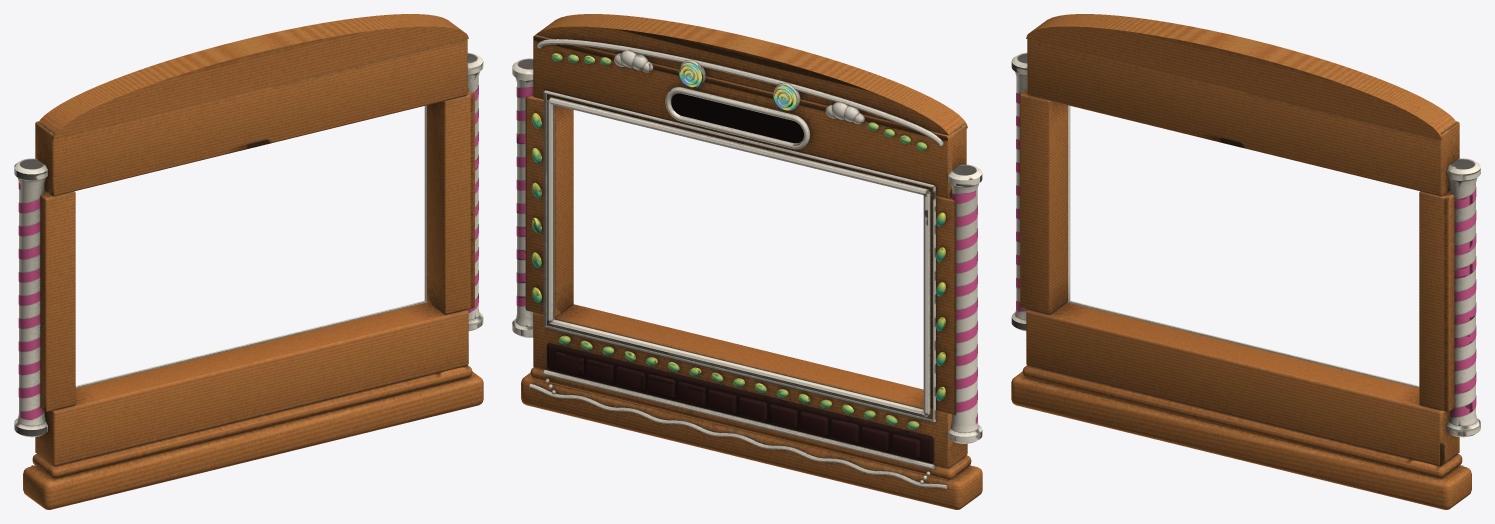
The picture shows the model from 3 angles, left to right: view 1: azimuth 30°, elevation 25°; view 2: azimuth 150°, elevation 25°; view 3: azimuth 330°, elevation 25°; orthographic projection.
Parts seen in each view (by area): view 1: Baked_gingerbread, Vanilla_icing, Raspberry_candy; view 2: Baked_gingerbread, Vanilla_icing, Dark_chocolate, Fruit_jelly, Raspberry_candy, Rainbow_candy_glow; view 3: Baked_gingerbread, Vanilla_icing, Raspberry_candy.
Part boxes in pixels (bbox=[...]): Baked_gingerbread: bbox=[23, 14, 483, 509]; Vanilla_icing: bbox=[14, 52, 483, 466]; Raspberry_candy: bbox=[18, 85, 478, 419]; Baked_gingerbread: bbox=[521, 14, 982, 509]; Vanilla_icing: bbox=[512, 39, 982, 488]; Dark_chocolate: bbox=[547, 93, 933, 462]; Fruit_jelly: bbox=[531, 53, 945, 429]; Raspberry_candy: bbox=[516, 87, 977, 423]; Rainbow_candy_glow: bbox=[679, 63, 796, 110]; Baked_gingerbread: bbox=[1011, 14, 1471, 509]; Vanilla_icing: bbox=[1011, 52, 1480, 466]; Raspberry_candy: bbox=[1016, 93, 1476, 417].
Bounding box in the file's own units: 10.34 × 8.6 × 1.1.
Materials: 6 (6 with a texture image).
